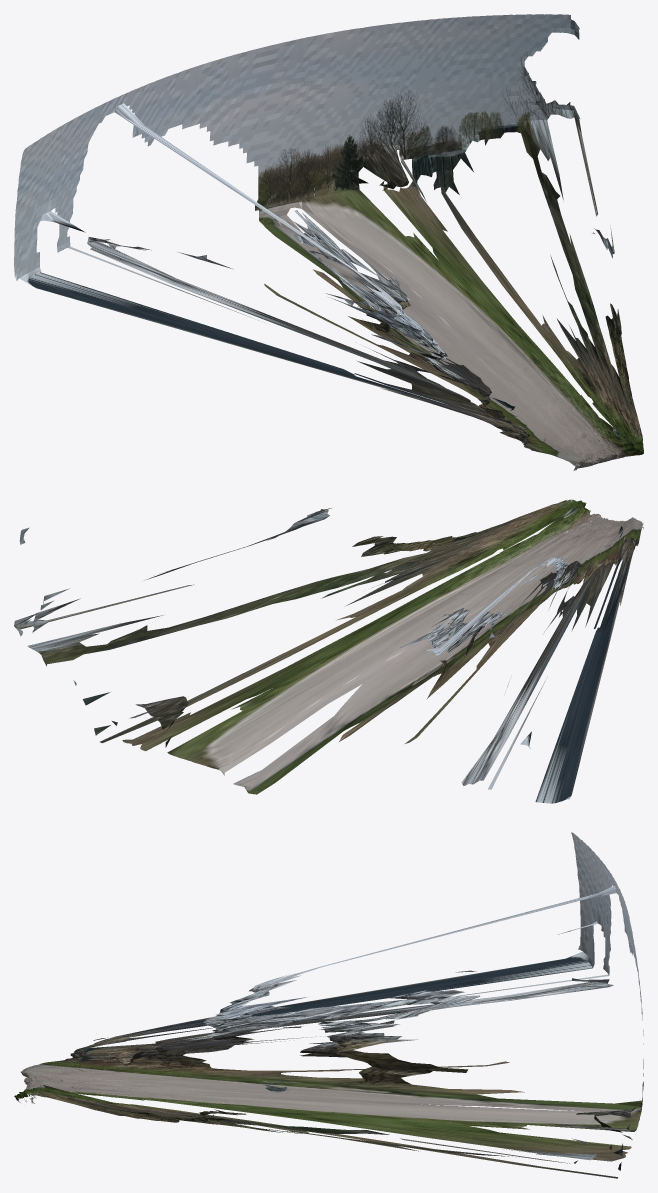
3 renders of one model, top to bottom at view 1: azimuth 30°, elevation 25°; view 2: azimuth 150°, elevation 25°; view 3: azimuth 270°, elevation 25°, orthographic. The views are drawn at different scales.
Parts seen in each view (by area): view 1: defaultobject; view 2: defaultobject; view 3: defaultobject.
Boxes of the visible parts, box(x1,y1,x2,y2) form: defaultobject: box(14, 14, 643, 470); defaultobject: box(14, 499, 643, 803); defaultobject: box(14, 832, 643, 1178).
Bounding box in the file's own units: 40.81 × 12.86 × 44.77.
1 material, 1 textured.
